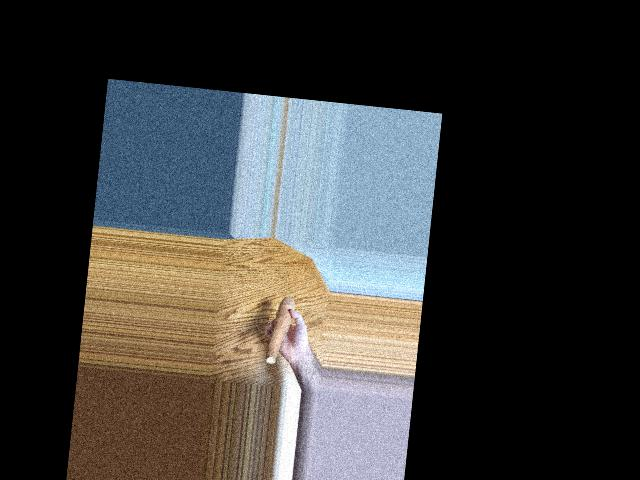sweet_potato: (266, 291, 291, 368)
